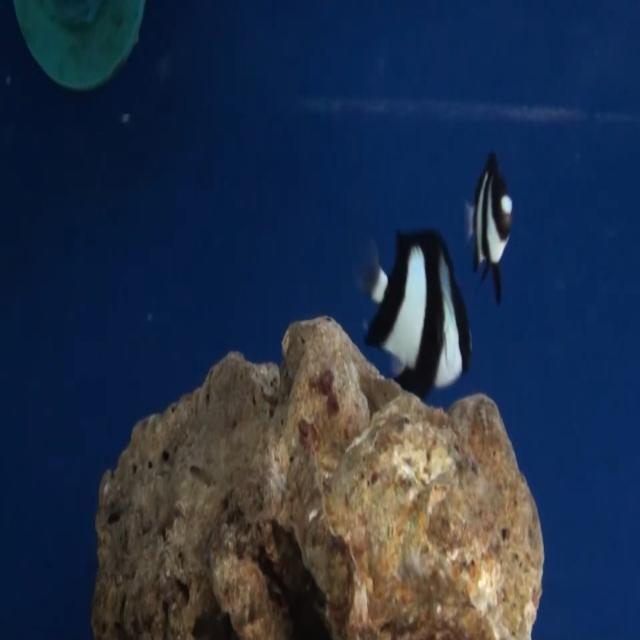ThreeStripedDamselfish: (361, 228, 472, 401), (466, 153, 514, 305)
